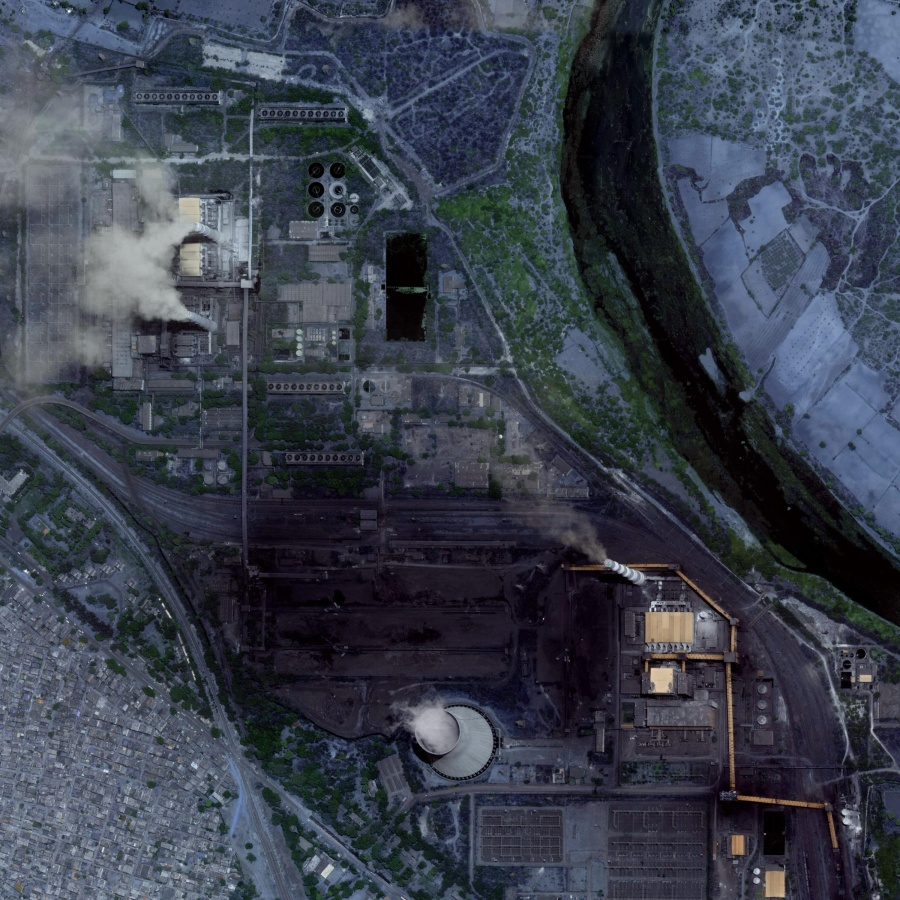PowerPlant: (213, 458, 706, 812), (28, 82, 300, 402)
